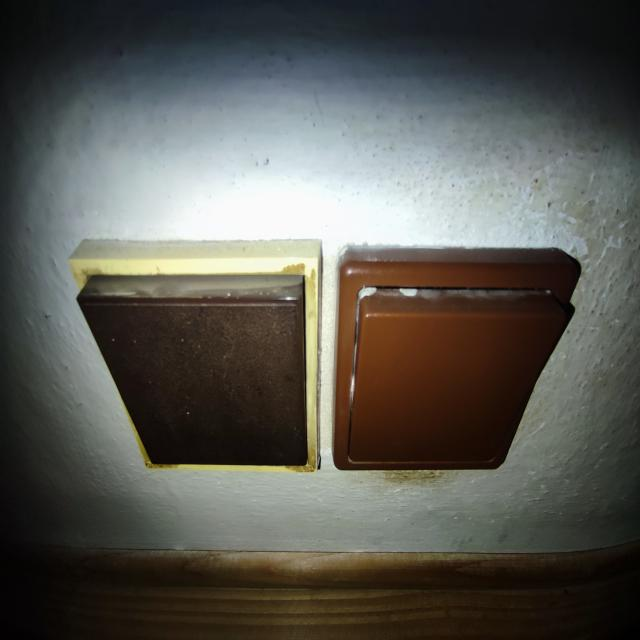house switch: (70, 237, 322, 470), (330, 244, 578, 470)
